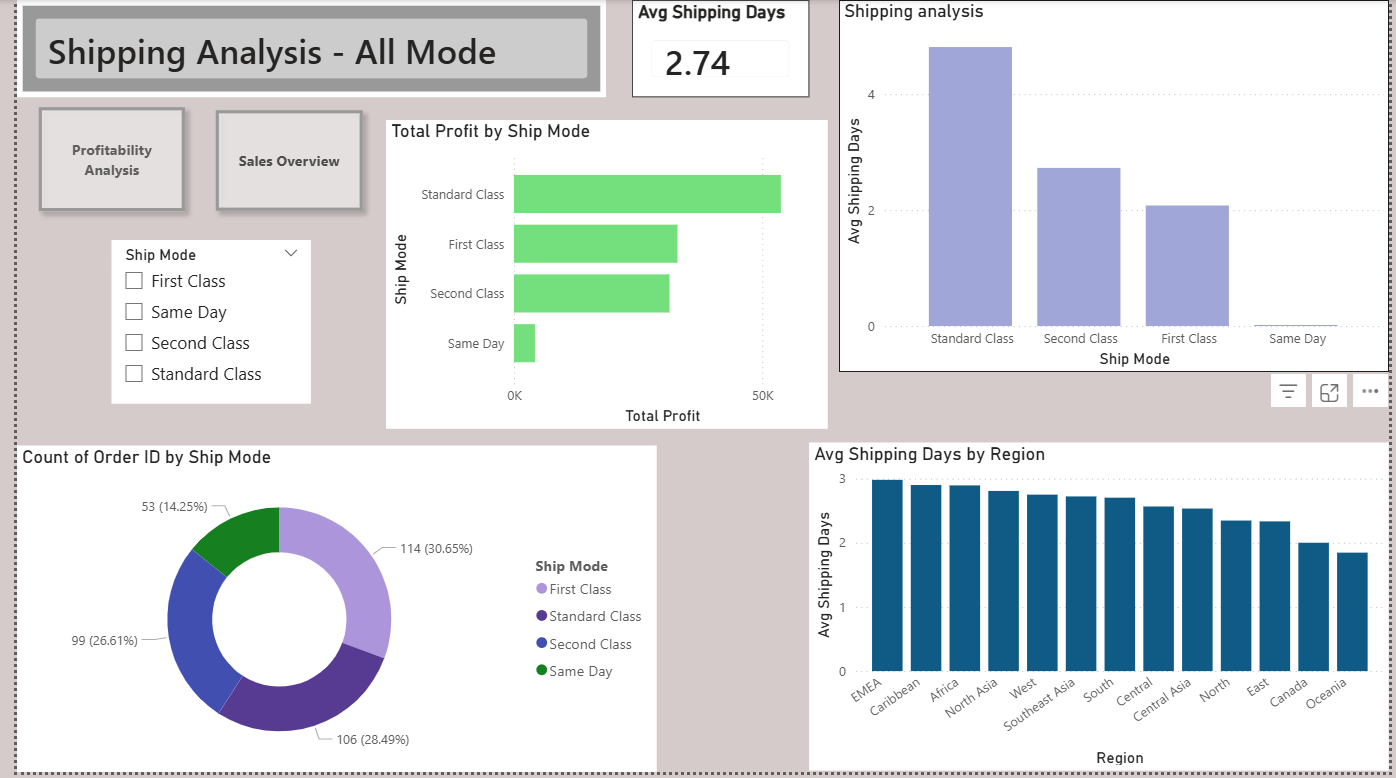

The page's visual inventory and layout, read from the dashboard file:
{"tool":"powerbi","page":{"name":"Shipping Analysis","canvas":[1280,720],"ordinal":2},"visuals":[{"type":"columnChart","title":"Shipping analysis ","fields":{"Y":["fact_sales.Avg Shipping Days"],"Category":["fact_sales.Ship Mode"]},"box":[766.2,0,513.3,346.8],"z":0},{"type":"cardVisual","title":"Avg Shipping Days","fields":{"Data":["fact_sales.Avg Shipping Days"]},"box":[573.9,0,165,90.9],"z":1000},{"type":"columnChart","fields":{"Y":["fact_sales.Avg Shipping Days"],"Category":["fact_sales.Region"]},"box":[738.9,413.4,540.6,305.9],"z":2000},{"type":"donutChart","fields":{"Category":["fact_sales.Ship Mode"],"Y":["CountNonNull(fact_sales.Order ID)"]},"box":[0,414.9,596.6,304.4],"z":3000},{"type":"actionButton","box":[176.3,93.7,155.3,111.9],"z":4000},{"type":"actionButton","box":[10.6,90.9,154.4,115.1],"z":5000},{"type":"cardVisual","fields":{"Data":["fact_sales.Ship Title"]},"box":[0,0,549.7,90.9],"z":6000},{"type":"barChart","fields":{"Y":["fact_sales.Total Profit"],"Category":["fact_sales.Ship Mode"]},"box":[343.7,112.1,411.9,287.7],"z":6001},{"type":"slicer","fields":{"Values":["fact_sales.Ship Mode"]},"box":[87.8,224.1,186.2,152.9],"z":6002}]}

Visuals, with their boxes in screenshot pixels (x1, y1, x2, y2), scaled from the page's 1280x720 canvas onto the 1396x778 screenshot:
"Shipping analysis " columnChart: crop(836, 0, 1395, 375)
"Avg Shipping Days" cardVisual: crop(626, 0, 806, 98)
columnChart - fact_sales.Avg Shipping Days x fact_sales.Region: crop(806, 447, 1395, 777)
donutChart - fact_sales.Ship Mode x CountNonNull(fact_sales.Order ID): crop(0, 448, 651, 777)
actionButton: crop(192, 101, 362, 222)
actionButton: crop(12, 98, 180, 223)
cardVisual - fact_sales.Ship Title: crop(0, 0, 600, 98)
barChart - fact_sales.Total Profit x fact_sales.Ship Mode: crop(375, 121, 824, 432)
slicer - fact_sales.Ship Mode: crop(96, 242, 299, 407)
